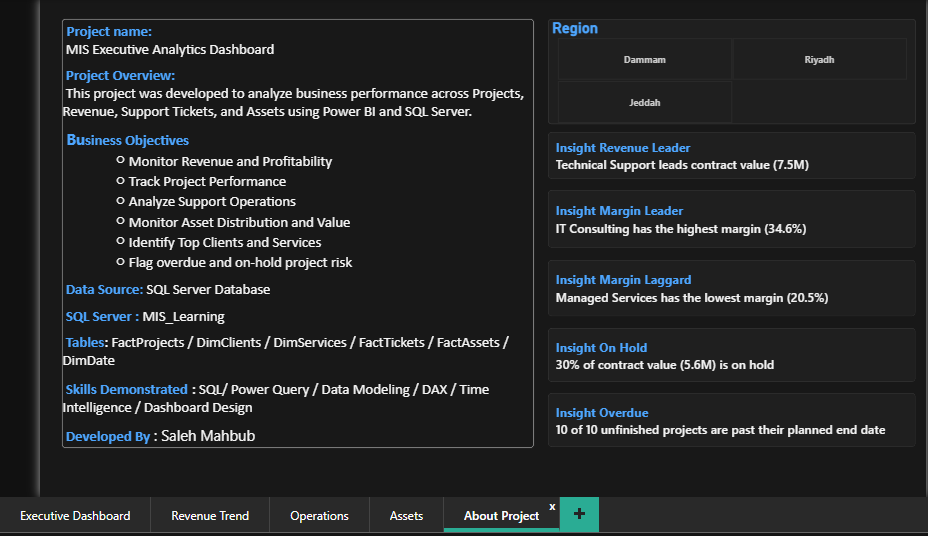

This screenshot's page, from the dashboard's own definition file:
{"tool":"powerbi","page":{"name":" About Project","canvas":[1920,1080],"ordinal":4},"visuals":[{"type":"textbox","box":[47.5,42.5,1022.5,930],"z":0},{"type":"cardVisual","fields":{"Data":["_Measures.Insight Revenue Leader"]},"box":[1102.5,287.5,797.5,102.5],"z":1},{"type":"cardVisual","fields":{"Data":["_Measures.Insight Margin Laggard"]},"box":[1102.5,565,797.5,122.5],"z":2},{"type":"cardVisual","fields":{"Data":["_Measures.Insight Margin Leader"]},"box":[1102.5,415,797.5,125],"z":3},{"type":"cardVisual","fields":{"Data":["_Measures.Insight On Hold"]},"box":[1102.5,712.5,797.5,117.5],"z":4},{"type":"cardVisual","fields":{"Data":["_Measures.Insight Overdue"]},"box":[1102.5,855,797.5,117.5],"z":5},{"type":"slicer","fields":{"Values":["DimClients.Region"]},"box":[1102.5,42.5,797.5,227.5],"z":6}]}

Visuals, with their boxes on the page's 1920x1080 design canvas (x1, y1, x2, y2). These are canvas units, not pixel positions in the 928x536 screenshot, which may show the page scaled, cropped or inside an application window:
textbox: rect(48, 42, 1070, 972)
cardVisual - _Measures.Insight Revenue Leader: rect(1102, 288, 1900, 390)
cardVisual - _Measures.Insight Margin Laggard: rect(1102, 565, 1900, 688)
cardVisual - _Measures.Insight Margin Leader: rect(1102, 415, 1900, 540)
cardVisual - _Measures.Insight On Hold: rect(1102, 712, 1900, 830)
cardVisual - _Measures.Insight Overdue: rect(1102, 855, 1900, 972)
slicer - DimClients.Region: rect(1102, 42, 1900, 270)
